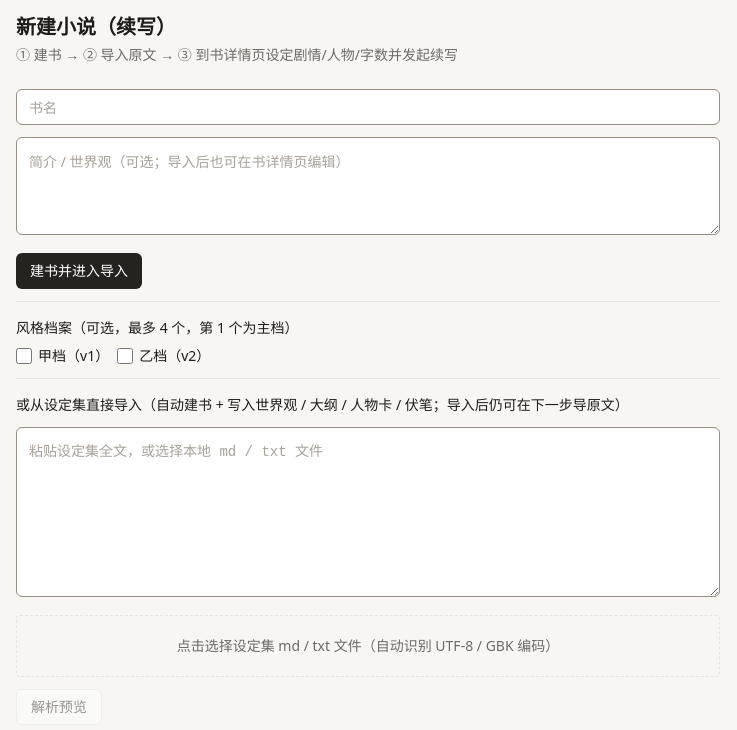
Scenario: NewBookPage 建档直选蒸馏档案（DEC-2026-1120-07） › 勾选 2 档提交 → createBook 后调用 bindStyle 且首位=主档、六维 dimsSource 全归主档（DEC-2026-1122-03④）
Click the checkbox named "风格档案勾选-甲档" at coordinates (24, 356), box [16,348,32,364]
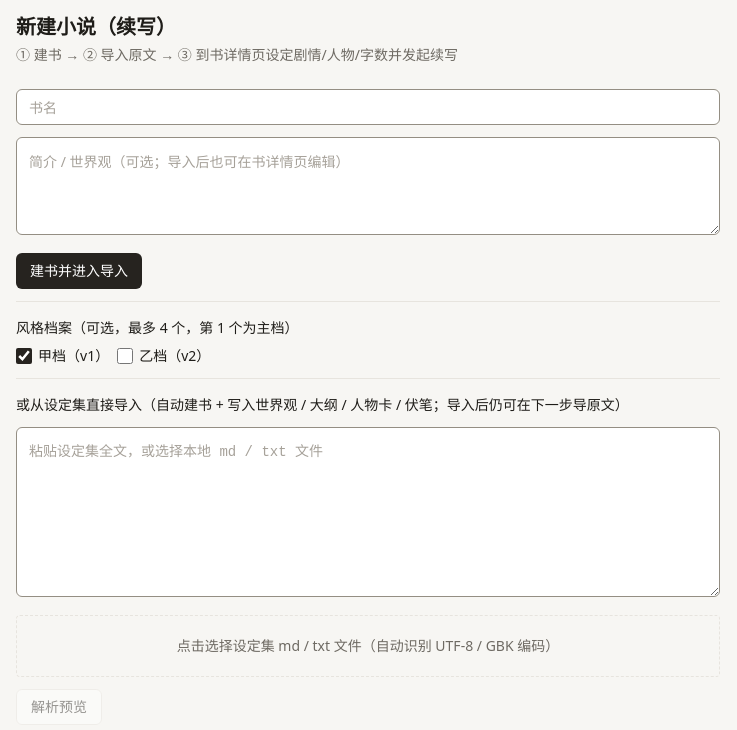
Click the checkbox labelled "乙档（v2）" at coordinates (125, 356), box [117,348,133,364]
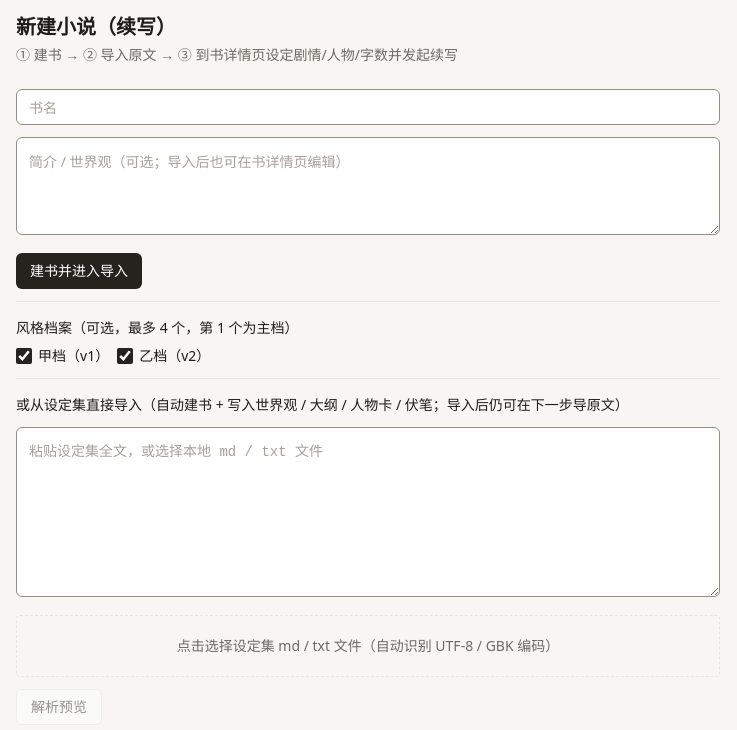
Type "试炼" into the field with placeholder "书名" at coordinates (368, 107), box [16,89,720,125]
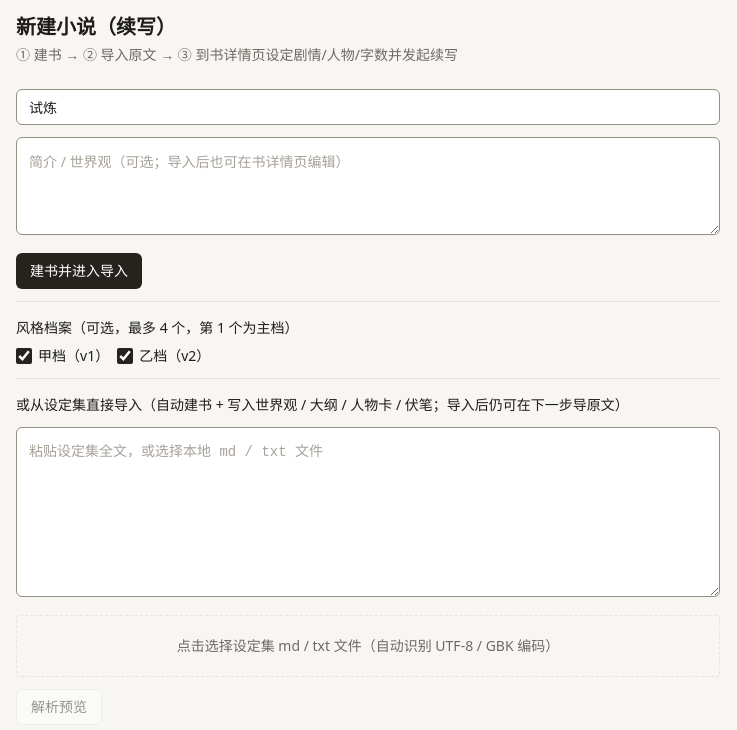
Click the button "建书并进入导入" at coordinates (79, 271), box [16,253,142,289]
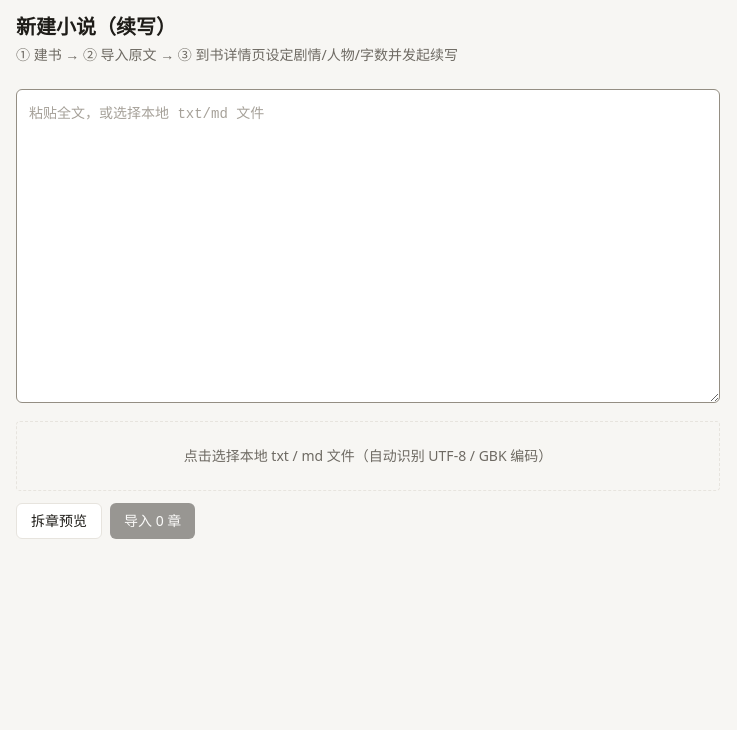
Result: the text box with placeholder "粘贴全文，或选择本地 txt/md 文件" is shown at [16,89,720,403]
